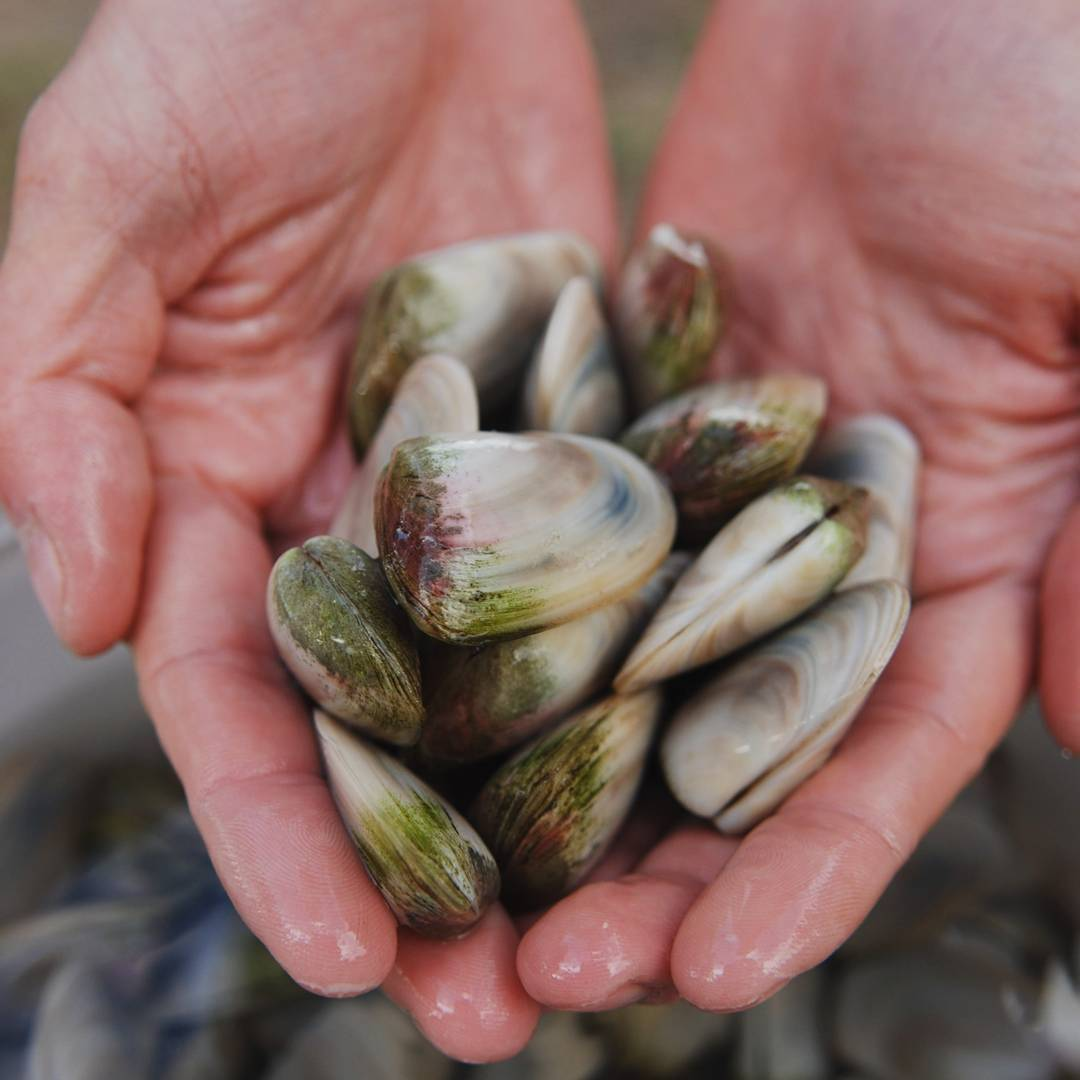tuatua: (660, 571, 912, 822), (374, 426, 681, 629), (624, 467, 866, 692), (312, 699, 500, 937), (347, 234, 590, 401), (262, 529, 424, 754), (481, 698, 642, 905), (619, 374, 835, 499), (614, 222, 721, 384), (536, 277, 629, 433)
